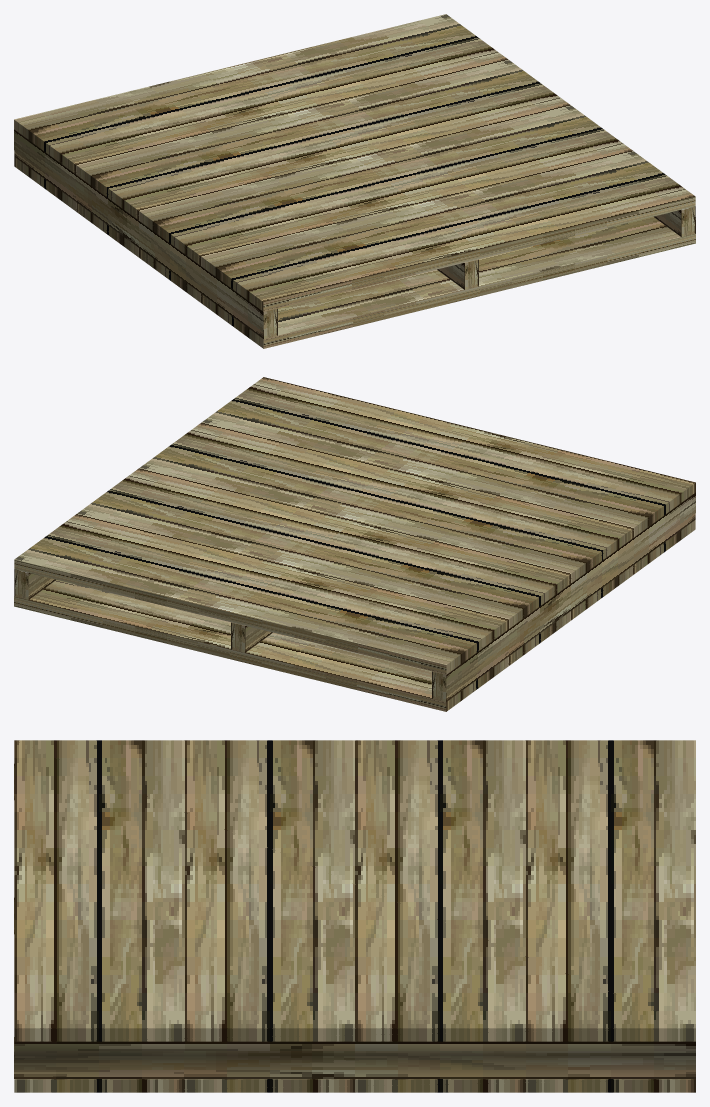
File: GoodsPalette.glb
3 views of the same model, one above another, from view 1: azimuth 30°, elevation 25°; view 2: azimuth 150°, elevation 25°; view 3: azimuth 270°, elevation 25° (orthographic). The views are drawn at different scales.
Parts seen in each view (by area): view 1: GOODSPALETTE; view 2: GOODSPALETTE; view 3: GOODSPALETTE.
Part boxes in pixels (x1,y1,x2,y2): GOODSPALETTE: (14, 14, 695, 348); GOODSPALETTE: (14, 377, 695, 711); GOODSPALETTE: (14, 740, 695, 1092).
Size of the model in its own units: 2 by 0.207 by 2.
1 material, 1 textured.
